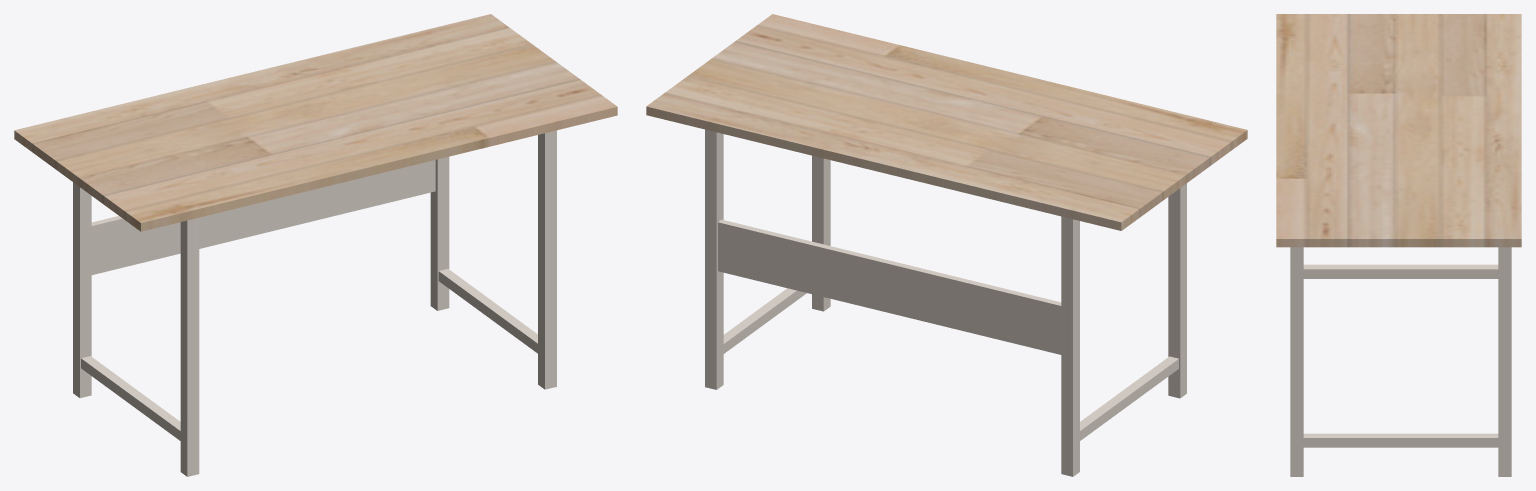
Rendered from simple_table.fbx.
3 views of the same model, side by side, from view 1: azimuth 30°, elevation 25°; view 2: azimuth 150°, elevation 25°; view 3: azimuth 270°, elevation 25° (orthographic). The views are drawn at different scales.
Parts seen in each view (by area): view 1: pCube9; view 2: pCube9; view 3: pCube9.
Part boxes in pixels (box(x1,y1,x2,y2)): pCube9: box(14, 14, 617, 476); pCube9: box(646, 14, 1247, 476); pCube9: box(1276, 14, 1521, 476).
Size of the model in its own units: 0.8801 by 0.4802 by 0.4051.
Materials: 1 (1 with a texture image).
